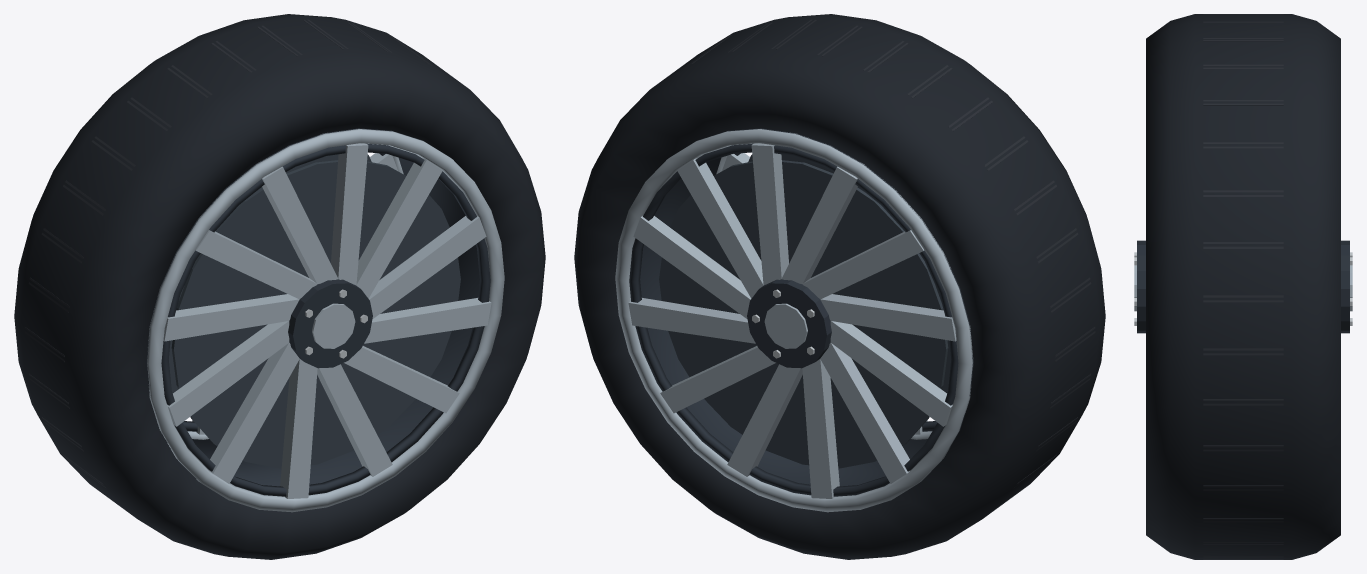
The model's file is turbine-pro.glb.
The picture shows the model from 3 angles, left to right: view 1: azimuth 30°, elevation 25°; view 2: azimuth 150°, elevation 25°; view 3: azimuth 270°, elevation 25°; orthographic projection.
Visible parts, largest first — view 1: wheel; view 2: wheel; view 3: wheel.
Boxes of the visible parts, left/top/right/bottom form: wheel: left=14, top=14, right=545, bottom=559; wheel: left=574, top=14, right=1105, bottom=559; wheel: left=1134, top=14, right=1352, bottom=559.
Bounding box in the file's own units: 2 × 2 × 0.8.
